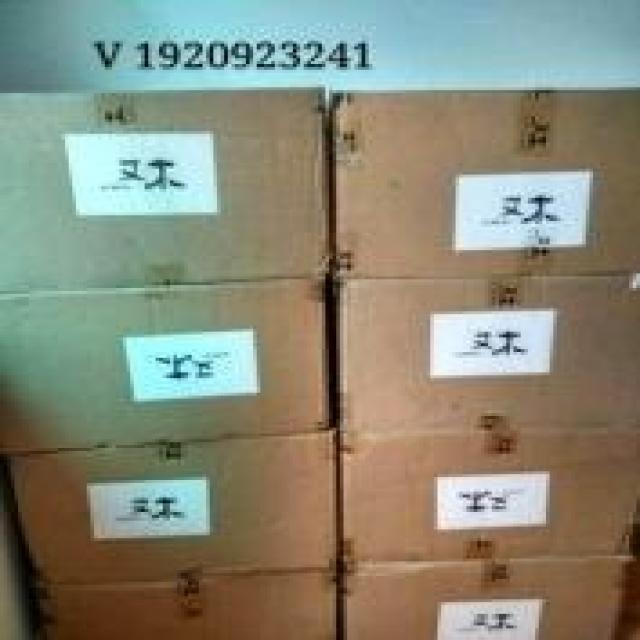box: (0, 86, 332, 294), (1, 276, 329, 454), (332, 87, 636, 274), (4, 432, 338, 579), (338, 271, 636, 428), (335, 429, 636, 563), (341, 556, 636, 637), (41, 567, 341, 637)
